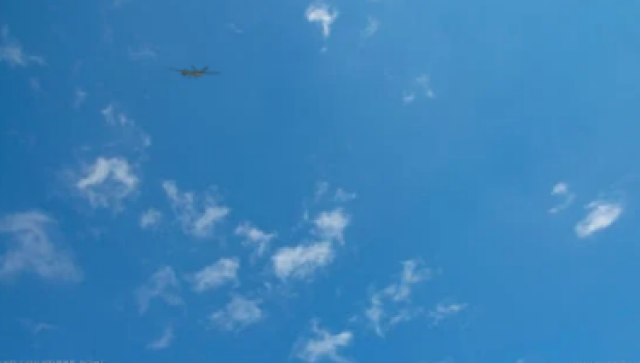military drone: (166, 64, 221, 80)
